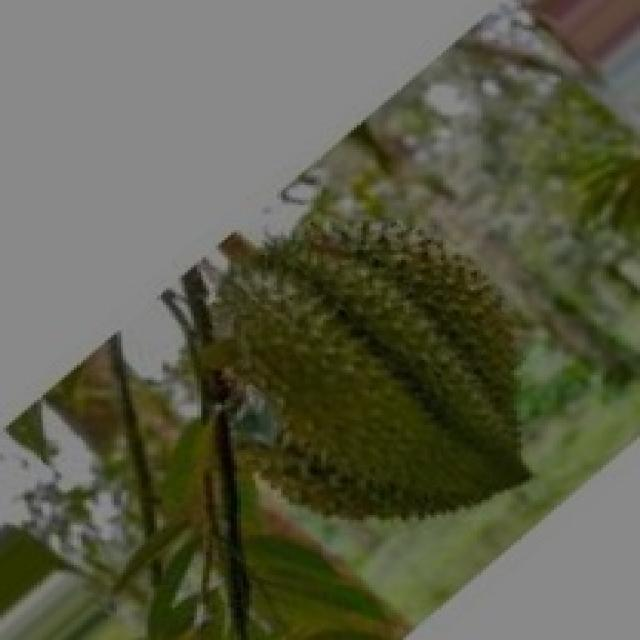fruit: (148, 170, 560, 570)
